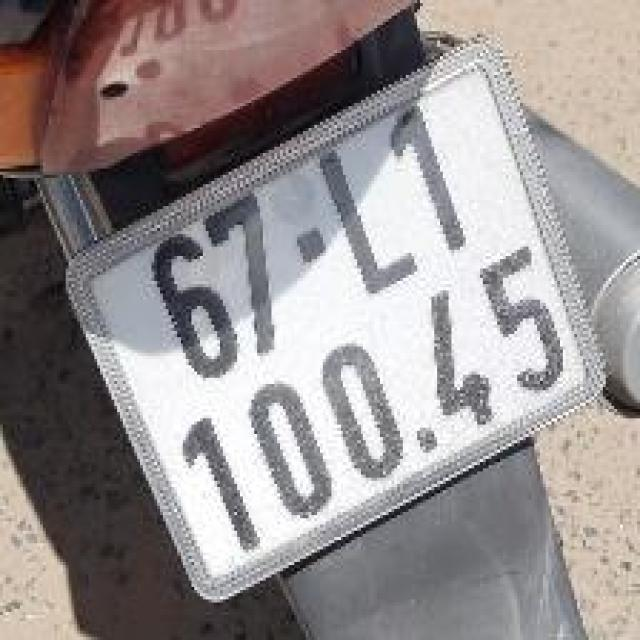0: (307, 319, 419, 494), (233, 368, 344, 534)
1: (370, 86, 487, 269), (172, 405, 271, 571)
4: (397, 271, 509, 444)
5: (463, 234, 582, 410)
6: (134, 206, 245, 395)
7: (201, 182, 311, 376)
L: (308, 128, 428, 313)
